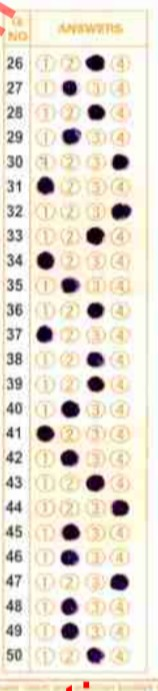filled circles: (111, 203, 132, 220), (86, 227, 104, 245), (86, 474, 104, 491), (37, 251, 54, 269), (86, 54, 104, 71), (37, 176, 54, 194), (61, 400, 79, 417), (111, 499, 129, 516), (60, 449, 78, 466), (61, 622, 78, 639), (62, 128, 80, 144), (61, 277, 79, 293), (110, 574, 128, 590), (61, 597, 77, 615), (87, 647, 104, 663), (87, 376, 104, 392), (87, 351, 104, 367), (62, 523, 79, 539), (37, 425, 54, 441), (36, 325, 52, 342), (61, 549, 78, 565), (88, 104, 105, 120), (112, 153, 128, 169), (87, 302, 103, 318), (62, 80, 77, 96)
